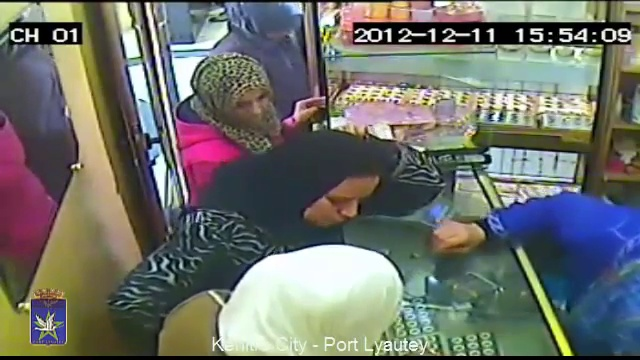face: (297, 172, 370, 227), (231, 89, 268, 121)
